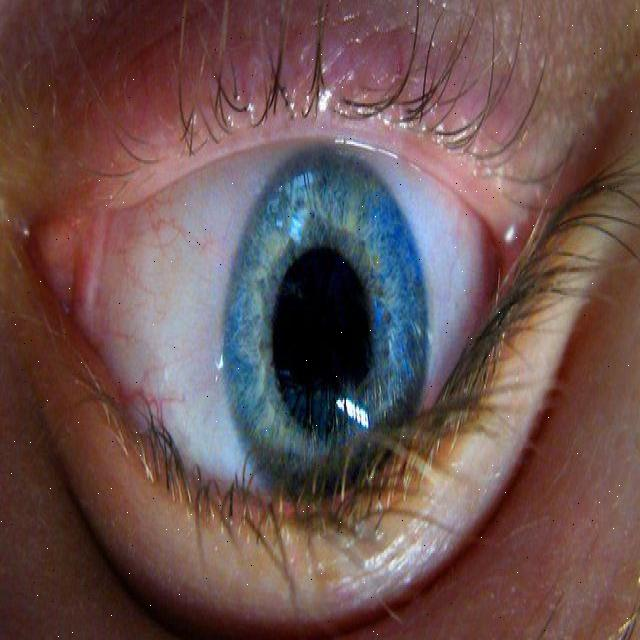Normal: (222, 156, 425, 537)
